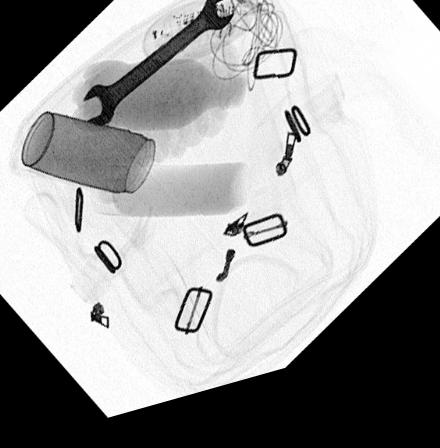Wrench: (79, 1, 235, 136)
